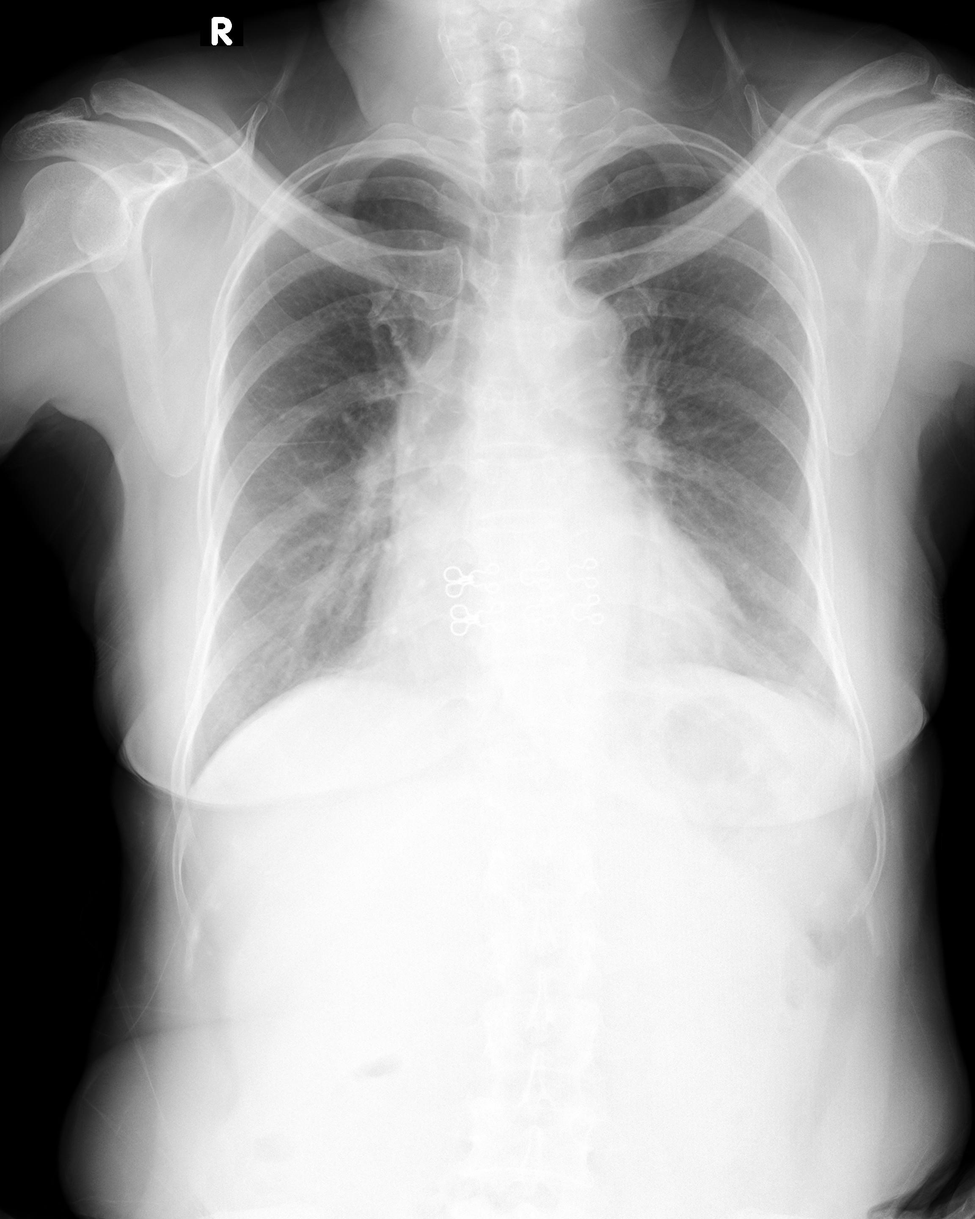Aortic enlargement: (398, 288, 629, 490)
